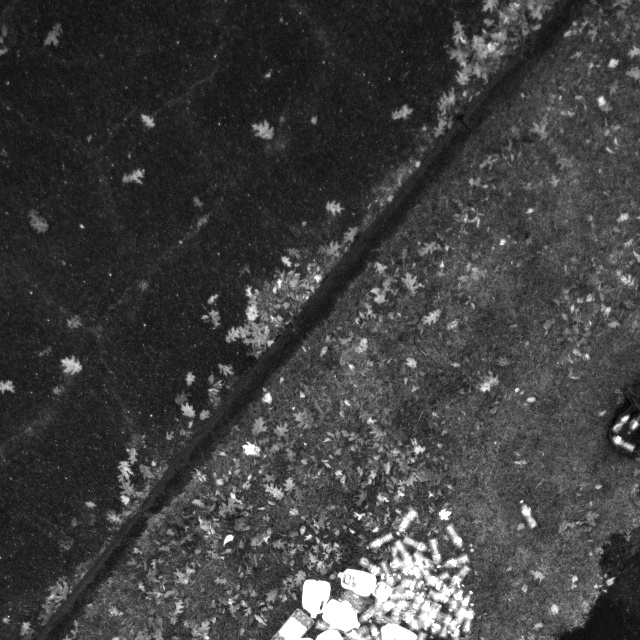bottle: (393, 508, 420, 539), (446, 563, 473, 592), (442, 524, 468, 554), (516, 499, 539, 532), (402, 552, 424, 585), (446, 583, 469, 614), (454, 589, 475, 622), (426, 536, 445, 571), (437, 553, 472, 572), (400, 535, 433, 555), (363, 531, 395, 551), (376, 560, 397, 590), (407, 590, 428, 620), (393, 543, 415, 569), (424, 571, 452, 588), (425, 589, 452, 606)
can: (297, 578, 332, 620), (333, 567, 379, 598)
container: (337, 589, 364, 615), (370, 580, 395, 600)
